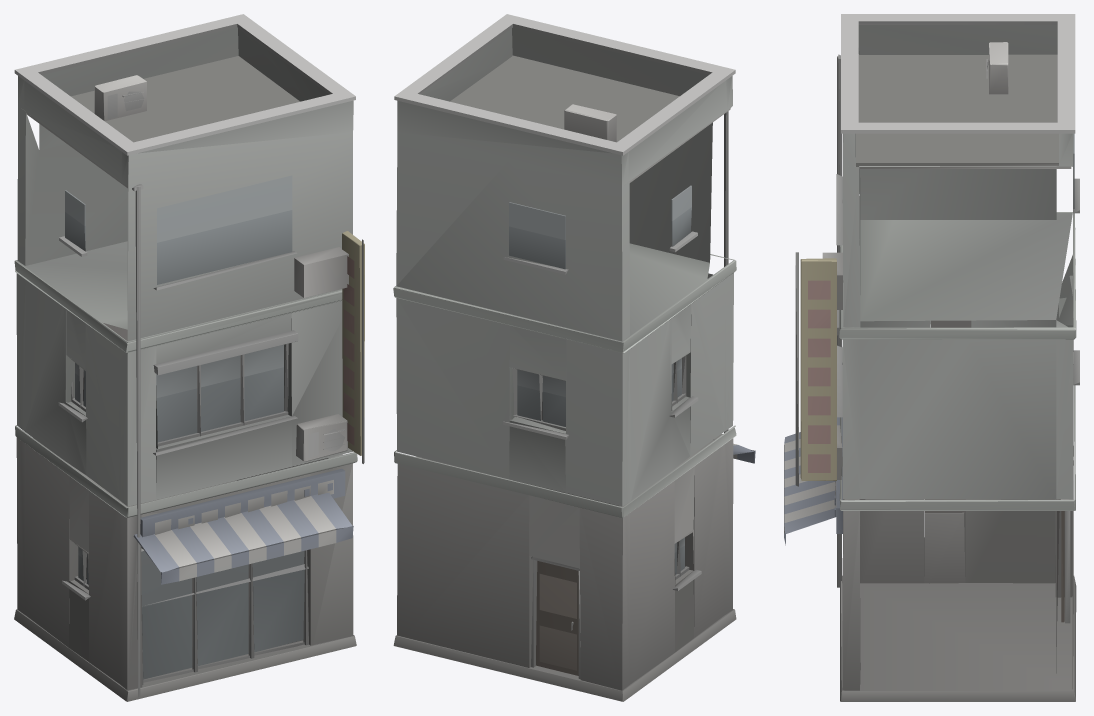
File: shop3.lod2.glb
3 views of the same model, side by side, from view 1: azimuth 30°, elevation 25°; view 2: azimuth 150°, elevation 25°; view 3: azimuth 270°, elevation 25° (orthographic). The views are drawn at different scales.
Size of the model in its own units: 4.15 by 9.32 by 4.37.
